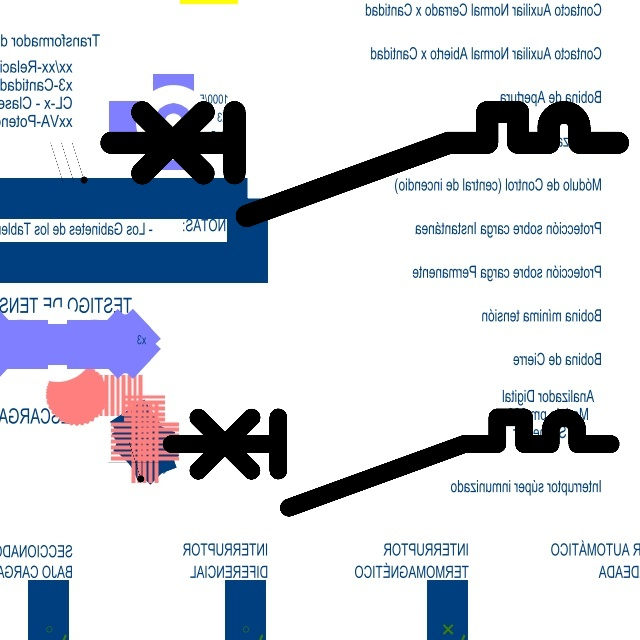interruptor_termomagnetico: (98, 99, 631, 229), (160, 406, 621, 519)
